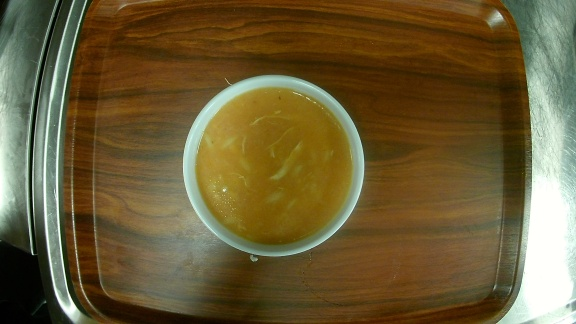tavukcorba: (180, 73, 370, 259)
